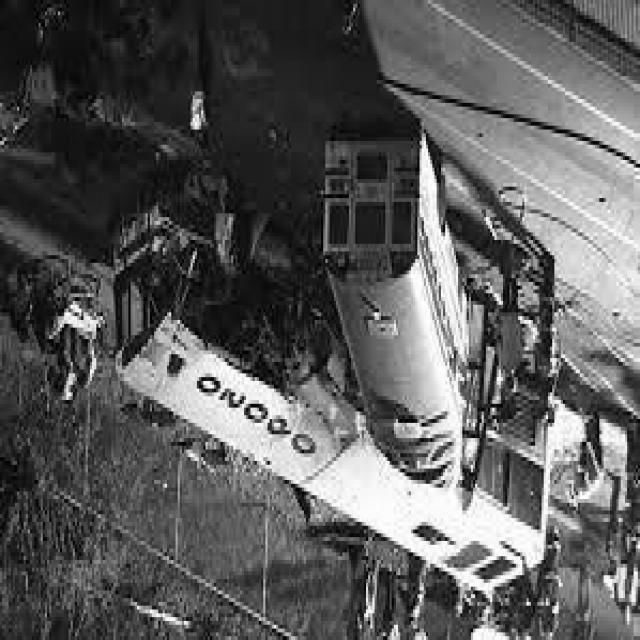severe: (105, 118, 563, 591)
